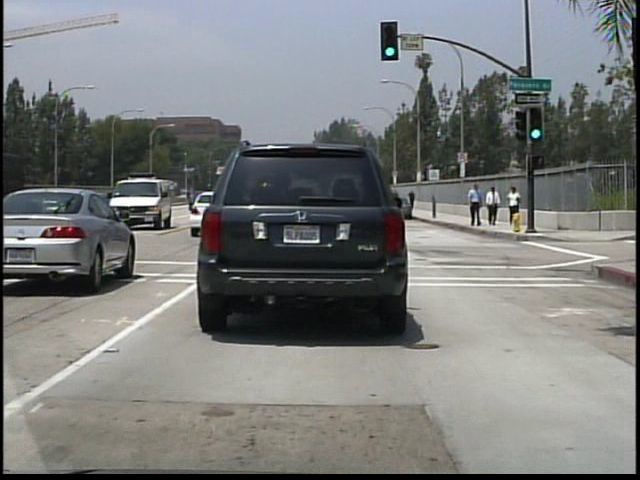person: (465, 180, 483, 228), (484, 185, 501, 226), (507, 184, 523, 213), (408, 189, 418, 205)
